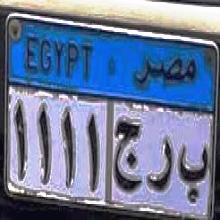1: (82, 105, 104, 192), (11, 94, 30, 185), (58, 103, 77, 190), (36, 98, 54, 184)
baa: (177, 132, 209, 203)
jeem: (113, 110, 142, 196)
raa: (146, 125, 173, 202)
